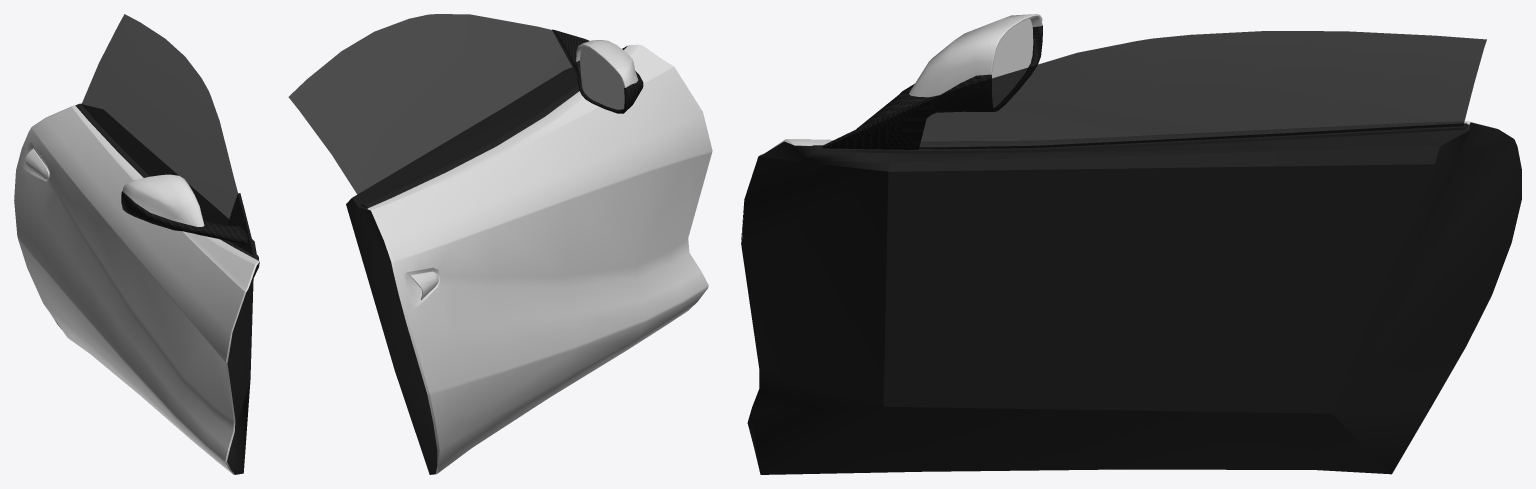
Rendered from door_right.glb.
3 views of the same model, side by side, from view 1: azimuth 30°, elevation 25°; view 2: azimuth 150°, elevation 25°; view 3: azimuth 270°, elevation 25° (orthographic). The views are drawn at different scales.
Visible parts, largest first — view 1: 820_superspeed_door_R_Paint, 820_superspeed_door_glass_R, 820_superspeed_door_R, 820_superspeed_door_R.001; view 2: 820_superspeed_door_R_Paint, 820_superspeed_door_glass_R, 820_superspeed_door_R, 820_superspeed_door_R.002, 820_superspeed_door_R.001; view 3: 820_superspeed_door_R, 820_superspeed_door_glass_R, 820_superspeed_door_R_Paint, 820_superspeed_door_R.001, 820_superspeed_door_R.002.
Boxes of the visible parts, x1,y1,x2,y2 form: 820_superspeed_door_R_Paint: (14,105,259,474); 820_superspeed_door_glass_R: (81,14,237,225); 820_superspeed_door_R: (53,103,259,474); 820_superspeed_door_R.001: (121,191,255,255); 820_superspeed_door_R_Paint: (367,40,712,474); 820_superspeed_door_glass_R: (288,14,578,203); 820_superspeed_door_R: (346,46,627,474); 820_superspeed_door_R.002: (580,45,624,109); 820_superspeed_door_R.001: (552,29,643,113); 820_superspeed_door_R: (741,122,1521,474); 820_superspeed_door_glass_R: (919,31,1486,149); 820_superspeed_door_R_Paint: (741,14,1496,245); 820_superspeed_door_R.001: (822,25,1042,149); 820_superspeed_door_R.002: (988,18,1033,107).
Size of the model in its own units: 0.4498 by 0.971 by 1.33.
Materials: 5 (1 with a texture image).
